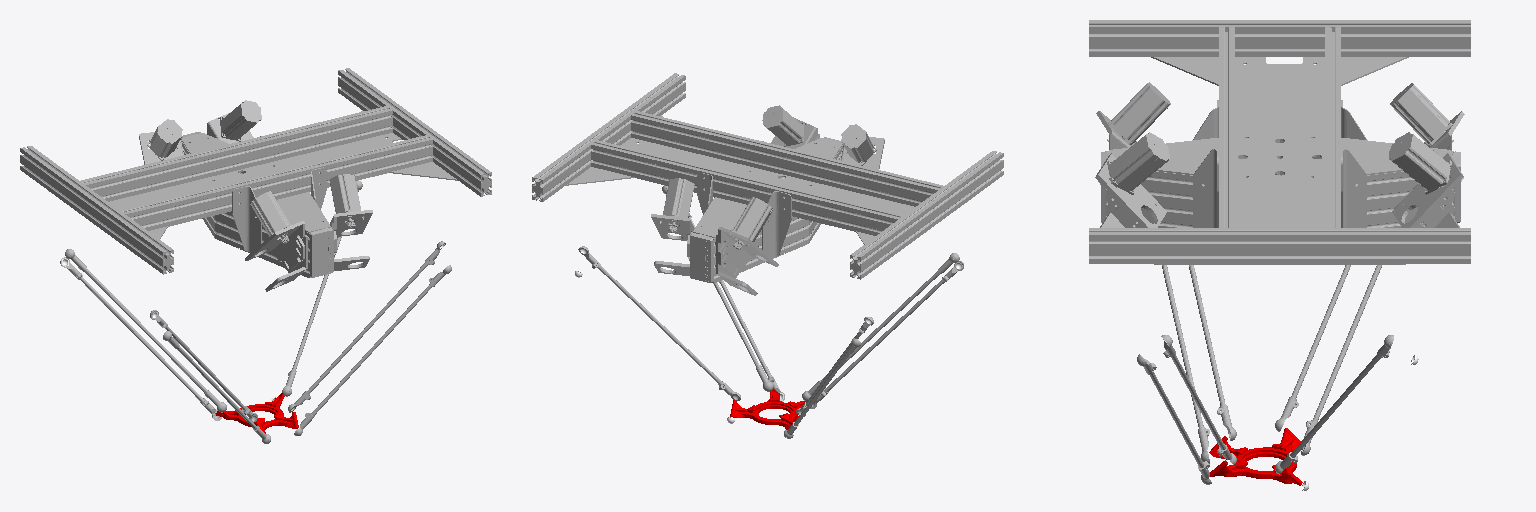
--- Facts derived from the render (not from the file) ---
Views: 3 orthographic renders of the robot side by side, from view 1: azimuth 30°, elevation 25°; view 2: azimuth 150°, elevation 25°; view 3: azimuth 270°, elevation 25°.
Robot: ragnar_support — 24 links, 23 joints (22 revolute, 1 continuous); root link base_link; default pose: all joints at 0.
Visible links, largest first — view 1: base_link, lower_arm_2mimic_y, ee_link_y, lower_arm_4y, lower_arm_4mimic_y, lower_arm_2y, lower_arm_3y, lower_arm_1mimic_y, lower_arm_3mimic_y; view 2: base_link, ee_link_y, lower_arm_1mimic_y, lower_arm_3y, lower_arm_3mimic_y, lower_arm_4mimic_y, lower_arm_2y, lower_arm_4y; view 3: base_link, ee_link_y, lower_arm_1mimic_y, lower_arm_2y, lower_arm_3y, lower_arm_2mimic_y, lower_arm_3mimic_y, lower_arm_4y, lower_arm_4mimic_y.
Boxes of the visible links, box(x1,y1,x2,y2) form: base_link: box(20, 68, 491, 291); lower_arm_2mimic_y: box(65, 249, 226, 412); ee_link_y: box(216, 393, 298, 433); lower_arm_4y: box(294, 265, 451, 435); lower_arm_4mimic_y: box(288, 241, 445, 412); lower_arm_2y: box(60, 257, 221, 420); lower_arm_3y: box(163, 331, 270, 443); lower_arm_1mimic_y: box(282, 180, 362, 396); lower_arm_3mimic_y: box(150, 310, 257, 422); base_link: box(532, 73, 1003, 295); ee_link_y: box(730, 388, 806, 429); lower_arm_1mimic_y: box(578, 246, 740, 400); lower_arm_3y: box(810, 261, 963, 408); lower_arm_3mimic_y: box(802, 253, 959, 400); lower_arm_4mimic_y: box(662, 185, 773, 391); lower_arm_2y: box(784, 338, 860, 438); lower_arm_4y: box(688, 213, 784, 401); base_link: box(1089, 20, 1470, 264); ee_link_y: box(1209, 428, 1302, 485); lower_arm_1mimic_y: box(1275, 335, 1393, 474); lower_arm_2y: box(1301, 265, 1381, 455); lower_arm_3y: box(1162, 265, 1209, 463); lower_arm_2mimic_y: box(1275, 265, 1350, 431); lower_arm_3mimic_y: box(1189, 265, 1236, 440); lower_arm_4y: box(1137, 354, 1211, 484); lower_arm_4mimic_y: box(1161, 335, 1236, 464).
Size in the robot's own frame: 0.9301 by 0.7 by 0.741 metres.
18 mesh visuals loaded from 23 distinct referenced files (18 binary STL); not drawn: 5 (reference not matched to a file when rendering).

The robot description file, URDF, robot "ragnar_support":
<?xml version="1.0" ?>
<robot
  name="ragnar_support">
  <link
    name="base_link">
    <inertial>
      <origin
        xyz="-4.80572213006859E-06 9.64495107789746E-06 -0.0184680705713898"
        rpy="0 0 0" />
      <mass
        value="26.5217124601092" />
      <inertia
        ixx="0.936457909215975"
        ixy="-0.00108838510526368"
        ixz="1.58187182756307E-06"
        iyy="1.50216890338436"
        iyz="1.0107984651762E-05"
        izz="2.28323593907717" />
    </inertial>
    <visual>
      <origin
        xyz="0 0 0"
        rpy="0 0 0" />
      <geometry>
        <mesh
          filename="package://ragnar_support/meshes/base_link.STL" />
      </geometry>
      <material
        name="">
        <color
          rgba="0.752941176470588 0.752941176470588 0.752941176470588 1" />
      </material>
    </visual>
    <collision>
      <origin
        xyz="0 0 0"
        rpy="0 0 0" />
      <geometry>
        <mesh
          filename="package://ragnar_support/meshes/base_link.STL" />
      </geometry>
    </collision>
  </link>
  <link
    name="upper_arm_1">
    <inertial>
      <origin
        xyz="-0.210332479810488 0.0724062934273924 0.00909438990065303"
        rpy="0 0 0" />
      <mass
        value="0.220403356973371" />
      <inertia
        ixx="0.0026219178052145"
        ixy="-0.000147380937793557"
        ixz="-1.99584635831913E-05"
        iyy="0.000216359248260153"
        iyz="0.000315156110780191"
        izz="0.00261966224861175" />
    </inertial>
    <visual>
      <origin
        xyz="0 0 0"
        rpy="0 0 0" />
      <geometry>
        <mesh
          filename="package://ragnar_support/meshes/upper_arm_1.STL" />
      </geometry>
      <material
        name="">
        <color
          rgba="0.792156862745098 0.819607843137255 0.933333333333333 1" />
      </material>
    </visual>
    <collision>
      <origin
        xyz="0 0 0"
        rpy="0 0 0" />
      <geometry>
        <mesh
          filename="package://ragnar_support/meshes/upper_arm_1.STL" />
      </geometry>
    </collision>
  </link>
  <joint
    name="a1_j1"
    type="continuous">
    <origin
      xyz="0.160010949865497 0.108274856777768 0.0575889311699957"
      rpy="-0.577440063598924 -0.782918202723078 -1.31128623800239" />
    <parent
      link="base_link" />
    <child
      link="upper_arm_1" />
    <axis
      xyz="-0.999995614993734 0 -0.00296141744832884" />
<limit effort="0" lower="-3.1416" upper="3.1416" velocity="2.618"/>
  </joint>
  <link
    name="lower_arm_1p">
    <inertial>
      <origin
        xyz="-7.08349093250793E-05 0.00409387140317863 0.00176568683072717"
        rpy="0 0 0" />
      <mass
        value="0.00145416620270911" />
      <inertia
        ixx="5.12231336176605E-08"
        ixy="4.53597246266854E-10"
        ixz="1.85719233136336E-10"
        iyy="7.70684657950722E-08"
        iyz="-1.11336771401356E-08"
        izz="5.60348563276591E-08" />
    </inertial>
    <visual>
      <origin
        xyz="0 0 0"
        rpy="0 0 0" />
      <geometry>
        <mesh
          filename="package://ragnar_support/meshes/lower_arm_1p.STL" />
      </geometry>
      <material
        name="">
        <color
          rgba="1 1 1 1" />
      </material>
    </visual>
    <collision>
      <origin
        xyz="0 0 0"
        rpy="0 0 0" />
      <geometry>
        <mesh
          filename="package://ragnar_support/meshes/lower_arm_1p.STL" />
      </geometry>
    </collision>
  </link>
  <joint
    name="a1_j2_pitch"
    type="revolute">
    <origin
      xyz="-0.248746661692048 0.300405276480653 0.0180161396934709"
      rpy="-3.14989581429232E-05 -0.14520998368272 1.57122940430968" />
    <parent
      link="upper_arm_1" />
    <child
      link="lower_arm_1p" />
    <axis
      xyz="0 -1 0" />
<limit effort="0" lower="-3.1416" upper="3.1416" velocity="2.618"/>
  </joint>
  <link
    name="lower_arm_1y">
    <inertial>
      <origin
        xyz="-0.0857350029007954 0.103068100037946 -0.240772387717076"
        rpy="0 0 0" />
      <mass
        value="0.0428629261309953" />
      <inertia
        ixx="0.00152982554666126"
        ixy="-0.000195415669175446"
        ixz="0.00046043943199075"
        iyy="0.00146022386921637"
        iyz="-0.000549581102076443"
        izz="0.000398536310970669" />
    </inertial>
    <visual>
      <origin
        xyz="0 0 0"
        rpy="0 0 0" />
      <geometry>
        <mesh
          filename="package://ragnar_support/meshes/lower_arm_1y.STL" />
      </geometry>
      <material
        name="">
        <color
          rgba="0.752941176470588 0.752941176470588 0.752941176470588 1" />
      </material>
    </visual>
    <collision>
      <origin
        xyz="0 0 0"
        rpy="0 0 0" />
      <geometry>
        <mesh
          filename="package://ragnar_support/meshes/lower_arm_1y.STL" />
      </geometry>
    </collision>
  </link>
  <joint
    name="a1_j2_yaw"
    type="revolute">
    <origin
      xyz="0 0 0"
      rpy="5.55111512312578E-17 4.16333634234434E-17 -2.77555756156289E-17" />
    <parent
      link="lower_arm_1p" />
    <child
      link="lower_arm_1y" />
    <axis
      xyz="-1 0 0" />
<limit effort="0" lower="-3.1416" upper="3.1416" velocity="2.618"/>
  </joint>

<link
    name="ee_link_r">
    <inertial>
      <origin
        xyz="-0.00409006086653613 -0.00179638885924011 0.000754174590804985"
        rpy="0 0 0" />
      <mass
        value="0.00145423946008903" />
      <inertia
        ixx="7.7016148378909E-08"
        ixy="-1.03410562127002E-08"
        ixz="4.286676094022E-09"
        iyy="5.53754672745314E-08"
        iyz="1.73268650864434E-09"
        izz="5.19400640910402E-08" />
    </inertial>
    <visual>
      <origin
        xyz="0 0 0"
        rpy="0 0 0" />
      
      <material
        name="">
        <color
          rgba="1 1 1 1" />
      </material>
    </visual>
    <collision>
      <origin
        xyz="0 0 0"
        rpy="0 0 0" />
      
    </collision>
  </link>
  <joint
    name="ee_joint_roll"
    type="revolute">
    <origin
      xyz="-0.171084847209756 0.204219593400815 -0.481343674169302"
      rpy="-1.13692211410268 -0.00297414918994651 -1.57076885440587" />
    <parent
      link="lower_arm_1y" />
    <child
      link="ee_link_r" />
    <axis
      xyz="0 0 1" />
<limit effort="0" lower="-3.1416" upper="3.1416" velocity="2.618"/>
  </joint>




  <link
    name="ee_link_p">
    <inertial>
      <origin
        xyz="-0.00409006086653613 -0.00179638885924011 0.000754174590804985"
        rpy="0 0 0" />
      <mass
        value="0.00145423946008903" />
      <inertia
        ixx="7.7016148378909E-08"
        ixy="-1.03410562127002E-08"
        ixz="4.286676094022E-09"
        iyy="5.53754672745314E-08"
        iyz="1.73268650864434E-09"
        izz="5.19400640910402E-08" />
    </inertial>
    <visual>
      <origin
        xyz="0 0 0"
        rpy="0 0 0" />
      <geometry>
        <mesh
          filename="package://ragnar_support/meshes/ee_link_p.STL" />
      </geometry>
      <material
        name="">
        <color
          rgba="1 1 1 1" />
      </material>
    </visual>
    <collision>
      <origin
        xyz="0 0 0"
        rpy="0 0 0" />
      <geometry>
        <mesh
          filename="package://ragnar_support/meshes/ee_link_p.STL" />
      </geometry>
    </collision>
  </link>
  <joint
    name="ee_joint_pitch"
    type="revolute">
    <origin
      xyz="0 0 0"
      rpy="0 0 0" />
    <parent
      link="ee_link_r" />
    <child
      link="ee_link_p" />
    <axis
      xyz="1 0 0" />
<limit effort="0" lower="-3.1416" upper="3.1416" velocity="2.618"/>
  </joint>
  <link
    name="ee_link_y">
    <inertial>
      <origin
        xyz="0.0452782579203541 0.0299974425520077 -0.0986829932824179"
        rpy="0 0 0" />
      <mass
        value="0.186074387301356" />
      <inertia
        ixx="0.000658891199332475"
        ixy="0.000210038051496725"
        ixz="1.60700356881814E-06"
        iyy="0.000664294616045467"
        iyz="2.93628997789316E-06"
        izz="0.00043513553229359" />
    </inertial>
    <visual>
      <origin
        xyz="0 0 0"
        rpy="0 0 0" />
      <geometry>
        <mesh
          filename="package://ragnar_support/meshes/ee_link_y.STL" />
      </geometry>
      <material
        name="">
        <color
          rgba="1 0 0 1" />
      </material>
    </visual>
    <collision>
      <origin
        xyz="0 0 0"
        rpy="0 0 0" />
      <geometry>
        <mesh
          filename="package://ragnar_support/meshes/ee_link_y.STL" />
      </geometry>
    </collision>
  </link>
  <joint
    name="ee_joint_yaw"
    type="revolute">
    <origin
      xyz="0 0 0"
      rpy="5.55111512312578E-17 -2.77555756156289E-17 0" />
    <parent
      link="ee_link_p" />
    <child
      link="ee_link_y" />
    <axis
      xyz="0 -1 0" />
<limit effort="0" lower="-3.1416" upper="3.1416" velocity="2.618"/>
  </joint>
  <link
    name="lower_arm_1mimic_p">
    <inertial>
      <origin
        xyz="7.23852119434709E-05 -0.00409560069078574 -0.001761293311284"
        rpy="0 0 0" />
      <mass
        value="0.00145424088627024" />
      <inertia
        ixx="5.12246870171609E-08"
        ixy="4.57947179070292E-10"
        ixz="1.89770593771504E-10"
        iyy="7.7082829467565E-08"
        iyz="-1.11221045104934E-08"
        izz="5.60242674548806E-08" />
    </inertial>
    <visual>
      <origin
        xyz="0 0 0"
        rpy="0 0 0" />
      <geometry>
        <mesh
          filename="package://ragnar_support/meshes/lower_arm_1mimic_p.STL" />
      </geometry>
      <material
        name="">
        <color
          rgba="1 1 1 1" />
      </material>
    </visual>
    <collision>
      <origin
        xyz="0 0 0"
        rpy="0 0 0" />
      <geometry>
        <mesh
          filename="package://ragnar_support/meshes/lower_arm_1mimic_p.STL" />
      </geometry>
    </collision>
  </link>
  <joint
    name="a1_j2_mimic_pitch"
    type="revolute">
    <origin
      xyz="-0.190426667074997 0.300430267743474 0.0180179573790795"
      rpy="-3.14989581429232E-05 -0.14520998368272 1.57122940430968" />
    <parent
      link="upper_arm_1" />
    <child
      link="lower_arm_1mimic_p" />
    <axis
      xyz="0 -1 0" />
<limit effort="0" lower="-3.1416" upper="3.1416" velocity="2.618"/>
  </joint>
  <link
    name="lower_arm_1mimic_y">
    <inertial>
      <origin
        xyz="-0.0857093763139064 0.101582797549759 -0.241413397998298"
        rpy="0 0 0" />
      <mass
        value="0.0428629228518739" />
      <inertia
        ixx="0.00152982508351827"
        ixy="-0.000195427127640526"
        ixz="0.000460434384058724"
        iyy="0.00146019589890375"
        iyz="-0.000549607512928558"
        izz="0.000398563695291804" />
    </inertial>
    <visual>
      <origin
        xyz="0 0 0"
        rpy="0 0 0" />
      <geometry>
        <mesh
          filename="package://ragnar_support/meshes/lower_arm_1mimic_y.STL" />
      </geometry>
      <material
        name="">
        <color
          rgba="0.752941176470588 0.752941176470588 0.752941176470588 1" />
      </material>
    </visual>
    <collision>
      <origin
        xyz="0 0 0"
        rpy="0 0 0" />
      <geometry>
        <mesh
          filename="package://ragnar_support/meshes/lower_arm_1mimic_y.STL" />
      </geometry>
    </collision>
  </link>
  <joint
    name="a1_j2_mimic_yaw"
    type="revolute">
    <origin
      xyz="0 0 0"
      rpy="5.55111512312578E-17 4.16333634234434E-17 -2.77555756156289E-17" />
    <parent
      link="lower_arm_1mimic_p" />
    <child
      link="lower_arm_1mimic_y" />
    <axis
      xyz="-1 0 0" />
<limit effort="0" lower="-3.1416" upper="3.1416" velocity="2.618"/>
  </joint>
  <link
    name="upper_arm_2">
    <inertial>
      <origin
        xyz="-0.119524856637198 0.0730478431711376 -0.0013685727575799"
        rpy="0 0 0" />
      <mass
        value="0.22040333047608" />
      <inertia
        ixx="0.00262206454372628"
        ixy="-0.000147486924774827"
        ixz="1.87297935956283E-06"
        iyy="0.000175732831798749"
        iyz="-2.01240188664239E-05"
        izz="0.00266013755986573" />
    </inertial>
    <visual>
      <origin
        xyz="0 0 0"
        rpy="0 0 0" />
      <geometry>
        <mesh
          filename="package://ragnar_support/meshes/upper_arm_2.STL" />
      </geometry>
      <material
        name="">
        <color
          rgba="0.792156862745098 0.819607843137255 0.933333333333333 1" />
      </material>
    </visual>
    <collision>
      <origin
        xyz="0 0 0"
        rpy="0 0 0" />
      <geometry>
        <mesh
          filename="package://ragnar_support/meshes/upper_arm_2.STL" />
      </geometry>
    </collision>
  </link>
  <joint
    name="a2_j1"
    type="revolute">
    <origin
      xyz="-0.142844129415703 0.17234309891631 -0.00873933863314556"
      rpy="-2.69762833232882 -0.788073303524792 -1.83439148402335" />
    <parent
      link="base_link" />
    <child
      link="upper_arm_2" />
    <axis
      xyz="-0.999995614993734 0 -0.00296141744832867" />
<limit effort="0" lower="-3.1416" upper="3.1416" velocity="2.618"/>
  </joint>
  <link
    name="lower_arm_2p">
    <inertial>
      <origin
        xyz="0.000193960570401608 -0.00412734760723876 0.0016762694871805"
        rpy="0 0 0" />
      <mass
        value="0.00145416612478692" />
      <inertia
        ixx="5.12721905699785E-08"
        ixy="1.22944921849684E-09"
        ixz="-5.07442602823755E-10"
        iyy="7.74930326291365E-08"
        iyz="1.06551321935051E-08"
        izz="5.55610866534726E-08" />
    </inertial>
    <visual>
      <origin
        xyz="0 0 0"
        rpy="0 0 0" />
      <geometry>
        <mesh
          filename="package://ragnar_support/meshes/lower_arm_2p.STL" />
      </geometry>
      <material
        name="">
        <color
          rgba="1 1 1 1" />
      </material>
    </visual>
    <collision>
      <origin
        xyz="0 0 0"
        rpy="0 0 0" />
      <geometry>
        <mesh
          filename="package://ragnar_support/meshes/lower_arm_2p.STL" />
      </geometry>
    </collision>
  </link>
  <joint
    name="a2_j2_pitch"
    type="revolute">
    <origin
      xyz="-0.157824184998755 0.300491184563458 0.0171018512178868"
      rpy="3.14159172517715 0.0250367542098497 1.57072216669281" />
    <parent
      link="upper_arm_2" />
    <child
      link="lower_arm_2p" />
    <axis
      xyz="0 -1 0" />
<limit effort="0" lower="-3.1416" upper="3.1416" velocity="2.618"/>
  </joint>
  <link
    name="lower_arm_2y">
    <inertial>
      <origin
        xyz="-0.0868888606537788 -0.102500988590004 -0.240600919616537"
        rpy="0 0 0" />
      <mass
        value="0.0428629280041853" />
      <inertia
        ixx="0.00152520187549002"
        ixy="0.000197042016106519"
        ixz="0.000466533453165836"
        iyy="0.00146282896883989"
        iyz="0.000546077220630335"
        izz="0.00040055443415453" />
    </inertial>
    <visual>
      <origin
        xyz="0 0 0"
        rpy="0 0 0" />
      <geometry>
        <mesh
          filename="package://ragnar_support/meshes/lower_arm_2y.STL" />
      </geometry>
      <material
        name="">
        <color
          rgba="0.752941176470588 0.752941176470588 0.752941176470588 1" />
      </material>
    </visual>
    <collision>
      <origin
        xyz="0 0 0"
        rpy="0 0 0" />
      <geometry>
        <mesh
          filename="package://ragnar_support/meshes/lower_arm_2y.STL" />
      </geometry>
    </collision>
  </link>
  <joint
    name="a2_j2_yaw"
    type="revolute">
    <origin
      xyz="0 0 0"
      rpy="-5.55111512312578E-17 2.08166817117217E-17 -1.04083408558608E-17" />
    <parent
      link="lower_arm_2p" />
    <child
      link="lower_arm_2y" />
    <axis
      xyz="-1 0 0" />
<limit effort="0" lower="-3.1416" upper="3.1416" velocity="2.618"/>
  </joint>
  <link
    name="lower_arm_2mimic_p">
    <inertial>
      <origin
        xyz="-0.000192383767370741 0.00412907580736449 -0.00167187358575915"
        rpy="0 0 0" />
      <mass
        value="0.00145423674393381" />
      <inertia
        ixx="5.12745712535365E-08"
        ixy="1.22444985952249E-09"
        ixz="-5.04599575788275E-10"
        iyy="7.75071638495174E-08"
        iyz="1.06437653889489E-08"
        izz="5.55496135178517E-08" />
    </inertial>
    <visual>
      <origin
        xyz="0 0 0"
        rpy="0 0 0" />
      <geometry>
        <mesh
          filename="package://ragnar_support/meshes/lower_arm_2mimic_p.STL" />
      </geometry>
      <material
        name="">
        <color
          rgba="1 1 1 1" />
      </material>
    </visual>
    <collision>
      <origin
        xyz="0 0 0"
        rpy="0 0 0" />
      <geometry>
        <mesh
          filename="package://ragnar_support/meshes/lower_arm_2mimic_p.STL" />
      </geometry>
    </collision>
  </link>
  <joint
    name="a2_j2_mimic_pitch"
    type="revolute">
    <origin
      xyz="-0.0995041851590518 0.300486860901783 0.0171019053459426"
      rpy="3.14159172517715 0.0250367542098497 1.57072216669281" />
    <parent
      link="upper_arm_2" />
    <child
      link="lower_arm_2mimic_p" />
    <axis
      xyz="0 -1 0" />
<limit effort="0" lower="-3.1416" upper="3.1416" velocity="2.618"/>
  </joint>
  <link
    name="lower_arm_2mimic_y">
    <inertial>
      <origin
        xyz="-0.0869593410840664 -0.101003472108792 -0.241209317092941"
        rpy="0 0 0" />
      <mass
        value="0.042862931736881" />
      <inertia
        ixx="0.00152520299683367"
        ixy="0.000197053408788448"
        ixz="0.000466527794651676"
        iyy="0.00146280189684198"
        iyz="0.000546104252323178"
        izz="0.000400581341978947" />
    </inertial>
    <visual>
      <origin
        xyz="0 0 0"
        rpy="0 0 0" />
      <geometry>
        <mesh
          filename="package://ragnar_support/meshes/lower_arm_2mimic_y.STL" />
      </geometry>
      <material
        name="">
        <color
          rgba="0.752941176470588 0.752941176470588 0.752941176470588 1" />
      </material>
    </visual>
    <collision>
      <origin
        xyz="0 0 0"
        rpy="0 0 0" />
      <geometry>
        <mesh
          filename="package://ragnar_support/meshes/lower_arm_2mimic_y.STL" />
      </geometry>
    </collision>
  </link>
  <joint
    name="a2_j2_mimic_yaw"
    type="revolute">
    <origin
      xyz="0 0 0"
      rpy="-5.55111512312578E-17 2.08166817117217E-17 -1.04083408558608E-17" />
    <parent
      link="lower_arm_2mimic_p" />
    <child
      link="lower_arm_2mimic_y" />
    <axis
      xyz="-1 0 0" />
<limit effort="0" lower="-3.1416" upper="3.1416" velocity="2.618"/>
  </joint>
  <link
    name="upper_arm_3">
    <inertial>
      <origin
        xyz="-0.00484346750270384 0.0730019074715039 0.00278194645535904"
        rpy="0 0 0" />
      <mass
        value="0.220403328218857" />
      <inertia
        ixx="0.00262200101041416"
        ixy="-0.000147924103597801"
        ixz="-5.84671130286481E-06"
        iyy="0.000178360466364994"
        iyz="8.22410475367427E-05"
        izz="0.0026575777339262" />
    </inertial>
    <visual>
      <origin
        xyz="0 0 0"
        rpy="0 0 0" />
      <geometry>
        <mesh
          filename="package://ragnar_support/meshes/upper_arm_3.STL" />
      </geometry>
      <material
        name="">
        <color
          rgba="0.792156862745098 0.819607843137255 0.933333333333333 1" />
      </material>
    </visual>
    <collision>
      <origin
        xyz="0 0 0"
        rpy="0 0 0" />
      <geometry>
        <mesh
          filename="package://ragnar_support/meshes/upper_arm_3.STL" />
      </geometry>
    </collision>
  </link>
  <joint
    name="a3_j1"
    type="revolute">
    <origin
      xyz="-0.122407872824831 -0.2486131944473 -0.0876998860967733"
      rpy="-0.45586339899943 -0.782740006622591 1.83074885812913" />
    <parent
      link="base_link" />
    <child
      link="upper_arm_3" />
    <axis
      xyz="-0.999995614993735 0 -0.0029614174481194" />
<limit effort="0" lower="-3.1416" upper="3.1416" velocity="2.618"/>
  </joint>
  <link
    name="lower_arm_3p">
    <inertial>
      <origin
        xyz="-0.00100226673856241 0.00341852398637604 0.0026815729632414"
        rpy="0 0 0" />
      <mass
        value="0.00145417812987813" />
      <inertia
        ixx="5.27685766598453E-08"
        ixy="5.29360734212653E-09"
        ixz="4.13695732958862E-09"
        iyy="6.92491919449324E-08"
        iyz="-1.41250268736226E-08"
        izz="6.23111122255088E-08" />
    </inertial>
    <visual>
      <origin
        xyz="0 0 0"
        rpy="0 0 0" />
      <geometry>
        <mesh
          filename="package://ragnar_support/meshes/lower_arm_3p.STL" />
      </geometry>
      <material
        name="">
        <color
          rgba="1 1 1 1" />
      </material>
    </visual>
    <collision>
      <origin
        xyz="0 0 0"
        rpy="0 0 0" />
      <geometry>
        <mesh
          filename="package://ragnar_support/meshes/lower_arm_3p.STL" />
      </geometry>
    </collision>
  </link>
  <joint
    name="a3_j2_pitch"
    type="revolute">
    <origin
      xyz="-0.0431934006587499 0.300828347020123 -0.00999201606430919"
      rpy="-3.71882227945036E-06 -0.0500887079396553 1.57094478519501" />
    <parent
      link="upper_arm_3" />
    <child
      link="lower_arm_3p" />
    <axis
      xyz="0 -1 0" />
<limit effort="0" lower="-3.1416" upper="3.1416" velocity="2.618"/>
  </joint>
  <link
    name="lower_arm_3y">
    <inertial>
      <origin
        xyz="-0.108850658252164 0.13629633319031 -0.213353346793806"
        rpy="0 0 0" />
      <mass
        value="0.0428629720186421" />
      <inertia
        ixx="0.00143044983777832"
        ixy="-0.000328478976934701"
        ixz="0.00051770461091551"
        iyy="0.00128340477895969"
        iyz="-0.000646341921694252"
        izz="0.000674736987559352" />
    </inertial>
    <visual>
      <origin
        xyz="0 0 0"
        rpy="0 0 0" />
      <geometry>
        <mesh
          filename="package://ragnar_support/meshes/lower_arm_3y.STL" />
      </geometry>
      <material
        name="">
        <color
          rgba="0.752941176470588 0.752941176470588 0.752941176470588 1" />
      </material>
    </visual>
    <collision>
      <origin
        xyz="0 0 0"
        rpy="0 0 0" />
      <geometry>
        <mesh
          filename="package://ragnar_support/meshes/lower_arm_3y.STL" />
      </geometry>
    </collision>
  </link>
  <joint
    name="a3_j2_yaw"
    type="revolute">
    <origin
      xyz="0 0 0"
      rpy="0 1.04083408558608E-17 2.77555756156289E-17" />
    <parent
      link="lower_arm_3p" />
    <child
      link="lower_arm_3y" />
    <axis
      xyz="-1 0 0" />
<limit effort="0" lower="-3.1416" upper="3.1416" velocity="2.618"/>
  </joint>
  <link
    name="lower_arm_3mimic_p">
    <inertial>
      <origin
        xyz="0.00100417445358647 -0.00342086110245249 -0.0026777191003053"
        rpy="0 0 0" />
      <mass
        value="0.00145424024842047" />
      <inertia
        ixx="5.27725393005272E-08"
        ixy="5.29956777771075E-09"
        ixz="4.13930587486123E-09"
        iyy="6.92635887230863E-08"
        iyz="-1.41202240693832E-08"
        izz="6.22971227E-08" />
    </inertial>
    <visual>
      <origin
        xyz="0 0 0"
        rpy="0 0 0" />
      <geometry>
        <mesh
          filename="package://ragnar_support/meshes/lower_arm_3mimic_p.STL" />
      </geometry>
      <material
        name="">
        <color
          rgba="1 1 1 1" />
      </material>
    </visual>
    <collision>
      <origin
        xyz="0 0 0"
        rpy="0 0 0" />
      <geometry>
        <mesh
          filename="package://ragnar_support/meshes/lower_arm_3mimic_p.STL" />
      </geometry>
    </collision>
  </link>
  <joint
    name="a3_j2_mimic_pitch"
    type="revolute">
    <origin
      xyz="0.0151265986997755 0.300836994255203 -0.00999179945460196"
      rpy="-3.71882227945036E-06 -0.0500887079396553 1.57094478519501" />
    <parent
      link="upper_arm_3" />
    <child
      link="lower_arm_3mimic_p" />
    <axis
      xyz="0 -1 0" />
<limit effort="0" lower="-3.1416" upper="3.1416" velocity="2.618"/>
  </joint>
  <link
    name="lower_arm_3mimic_y">
    <inertial>
      <origin
        xyz="-0.108487208402364 0.135056253935027 -0.214326874718862"
        rpy="0 0 0" />
      <mass
        value="0.0428629723787723" />
      <inertia
        ixx="0.00143044315890675"
        ixy="-0.000328495424269735"
        ixz="0.000517701677962203"
        iyy="0.00128337408529779"
        iyz="-0.000646354247115055"
        izz="0.000674774334026611" />
    </inertial>
    <visual>
      <origin
        xyz="0 0 0"
        rpy="0 0 0" />
      <geometry>
        <mesh
          filename="package://ragnar_support/meshes/lower_arm_3mimic_y.STL" />
      </geometry>
      <material
        name="">
        <color
          rgba="0.752941176470588 0.752941176470588 0.752941176470588 1" />
      </material>
    </visual>
    <collision>
      <origin
        xyz="0 0 0"
        rpy="0 0 0" />
      <geometry>
        <mesh
          filename="package://ragnar_support/meshes/lower_arm_3mimic_y.STL" />
      </geometry>
    </collision>
  </link>
  <joint
    name="a3_j2_mimic_yaw"
    type="revolute">
    <origin
      xyz="0 0 0"
      rpy="0 1.04083408558608E-17 2.77555756156289E-17" />
    <parent
      link="lower_arm_3mimic_p" />
    <child
      link="lower_arm_3mimic_y" />
    <axis
      xyz="-1 0 0" />
<limit effort="0" lower="-3.1416" upper="3.1416" velocity="2.618"/>
  </joint>
  <link
    name="upper_arm_4">
    <inertial>
      <origin
        xyz="-0.0630349864280187 0.0718622788097864 -0.0133332044240239"
        rpy="0 0 0" />
      <mass
        value="0.22040332930202" />
      <inertia
        ixx="0.00262220904041122"
        ixy="-0.000143937255534239"
        ixz="2.61586329865067E-05"
        iyy="0.000250875791379021"
        iyz="-0.000426371144275101"
        izz="0.00258485009537866" />
    </inertial>
    <visual>
      <origin
        xyz="0 0 0"
        rpy="0 0 0" />
      <geometry>
        <mesh
          filename="package://ragnar_support/meshes/upper_arm_4.STL" />
      </geometry>
      <material
        name="">
        <color
          rgba="0.792156862745098 0.819607843137255 0.933333333333333 1" />
      </material>
    </visual>
    <collision>
      <origin
        xyz="0 0 0"
        rpy="0 0 0" />
      <geometry>
        <mesh
          filename="package://ragnar_support/meshes/upper_arm_4.STL" />
      </geometry>
    </collision>
  </link>
  <joint
    name="a4_j1"
    type="revolute">
    <origin
      xyz="0.132512415306385 -0.210902059977154 -0.0486584793369262"
      rpy="-2.53059906119847 -0.787825245543956 1.30659742036931" />
    <parent
      link="base_link" />
    <child
      link="upper_arm_4" />
    <axis
      xyz="-0.999995614993734 0 -0.00296141744832823" />
<limit effort="0" lower="-3.1416" upper="3.1416" velocity="2.618"/>
  </joint>
  <link
    name="lower_arm_4p">
    <inertial>
      <origin
        xyz="-0.216239839008508 -0.275308646624798 -0.424226517789036"
        rpy="0 0 0" />
      <mass
        value="0.00145419949934001" />
      <inertia
        ixx="5.66828874210897E-08"
        ixy="1.09592650336371E-08"
        ixz="-4.19485557341024E-09"
        iyy="7.32076691406489E-08"
        iyz="8.38763936454966E-09"
        izz="5.44362812756979E-08" />
    </inertial>
    <visual>
      <origin
        xyz="0 0 0"
        rpy="0 0 0" />
      <geometry>
        <mesh
          filename="package://ragnar_support/meshes/lower_arm_4p.STL" />
      </geometry>
      <material
        name="">
        <color
          rgba="1 1 1 1" />
      </material>
    </visual>
    <collision>
      <origin
        xyz="0 0 0"
        rpy="0 0 0" />
      <geometry>
        <mesh
          filename="package://ragnar_support/meshes/lower_arm_4p.STL" />
      </geometry>
    </collision>
  </link>
  <joint
    name="a4_j2_pitch"
    type="revolute">
    <origin
      xyz="-0.101221553770948 0.299229501991879 -0.0329393354550221"
      rpy="3.14153716664843 0.192086368842642 1.57022037519689" />
    <parent
      link="upper_arm_4" />
    <child
      link="lower_arm_4p" />
    <axis
      xyz="0 -1 0" />
<limit effort="0" lower="-3.1416" upper="3.1416" velocity="2.618"/>
  </joint>
  <link
    name="lower_arm_4y">
    <inertial>
      <origin
        xyz="-0.10894963965042 -0.136737530023858 -0.213021248646061"
        rpy="0 0 0" />
      <mass
        value="0.042863022967467" />
      <inertia
        ixx="0.00142741142118146"
        ixy="0.000331247225976149"
        ixz="0.0005193397686382"
        iyy="0.00128112156320091"
        iyz="0.000646455946788979"
        izz="0.000680063480170568" />
    </inertial>
    <visual>
      <origin
        xyz="0 0 0"
        rpy="0 0 0" />
      <geometry>
        <mesh
          filename="package://ragnar_support/meshes/lower_arm_4y.STL" />
      </geometry>
      <material
        name="">
        <color
          rgba="0.752941176470588 0.752941176470588 0.752941176470588 1" />
      </material>
    </visual>
    <collision>
      <origin
        xyz="0 0 0"
        rpy="0 0 0" />
      <geometry>
        <mesh
          filename="package://ragnar_support/meshes/lower_arm_4y.STL" />
      </geometry>
    </collision>
  </link>
  <joint
    name="a4_j2_yaw"
    type="revolute">
    <origin
      xyz="0 0 0"
      rpy="5.55111512312578E-17 -2.08166817117217E-17 -2.08166817117217E-17" />
    <parent
      link="lower_arm_4p" />
    <child
      link="lower_arm_4y" />
    <axis
      xyz="-1 0 0" />
<limit effort="0" lower="-3.1416" upper="3.1416" velocity="2.618"/>
  </joint>
  <link
    name="lower_arm_4mimic_p">
    <inertial>
      <origin
        xyz="-0.00188219535482986 0.00377657736311257 -0.00144132341503525"
        rpy="0 0 0" />
      <mass
        value="0.00145419725598561" />
      <inertia
        ixx="5.66829033424919E-08"
        ixy="1.09581817674112E-08"
        ixz="-4.19536086277474E-09"
        iyy="7.32081518393887E-08"
        iyz="8.38817057671909E-09"
        izz="5.44356193679025E-08" />
    </inertial>
    <visual>
      <origin
        xyz="0 0 0"
        rpy="0 0 0" />
      <geometry>
        <mesh
          filename="package://ragnar_support/meshes/lower_arm_4mimic_p.STL" />
      </geometry>
      <material
        name="">
        <color
          rgba="1 1 1 1" />
      </material>
    </visual>
    <collision>
      <origin
        xyz="0 0 0"
        rpy="0 0 0" />
      <geometry>
        <mesh
          filename="package://ragnar_support/meshes/lower_arm_4mimic_p.STL" />
      </geometry>
    </collision>
  </link>
  <joint
    name="a4_j2_mimic_pitch"
    type="revolute">
    <origin
      xyz="-0.0429015631778787 0.299196530272228 -0.0329361589728635"
      rpy="3.14153716664843 0.192086368842642 1.57022037519689" />
    <parent
      link="upper_arm_4" />
    <child
      link="lower_arm_4mimic_p" />
    <axis
      xyz="0 -1 0" />
<limit effort="0" lower="-3.1416" upper="3.1416" velocity="2.618"/>
  </joint>
  <link
    name="lower_arm_4mimic_y">
    <inertial>
      <origin
        xyz="-0.109633002166533 -0.135367731741026 -0.213544997059403"
        rpy="0 0 0" />
      <mass
        value="0.0428629811410288" />
      <inertia
        ixx="0.0014274224906128"
        ixy="0.000331252143611295"
        ixz="0.000519320952469747"
        iyy="0.00128108600476846"
        iyz="0.000646474885472652"
        izz="0.000680083133307756" />
    </inertial>
    <visual>
      <origin
        xyz="0 0 0"
        rpy="0 0 0" />
      <geometry>
        <mesh
          filename="package://ragnar_support/meshes/lower_arm_4mimic_y.STL" />
      </geometry>
      <material
        name="">
        <color
          rgba="0.752941176470588 0.752941176470588 0.752941176470588 1" />
      </material>
    </visual>
    <collision>
      <origin
        xyz="0 0 0"
        rpy="0 0 0" />
      <geometry>
        <mesh
          filename="package://ragnar_support/meshes/lower_arm_4mimic_y.STL" />
      </geometry>
    </collision>
  </link>
  <joint
    name="a4_j2_mimic_yaw"
    type="revolute">
    <origin
      xyz="0 0 0"
      rpy="5.55111512312578E-17 -2.08166817117217E-17 -2.08166817117217E-17" />
    <parent
      link="lower_arm_4mimic_p" />
    <child
      link="lower_arm_4mimic_y" />
    <axis
      xyz="-1 0 0" />
<limit effort="0" lower="-3.1416" upper="3.1416" velocity="2.618"/>
  </joint>
</robot>
